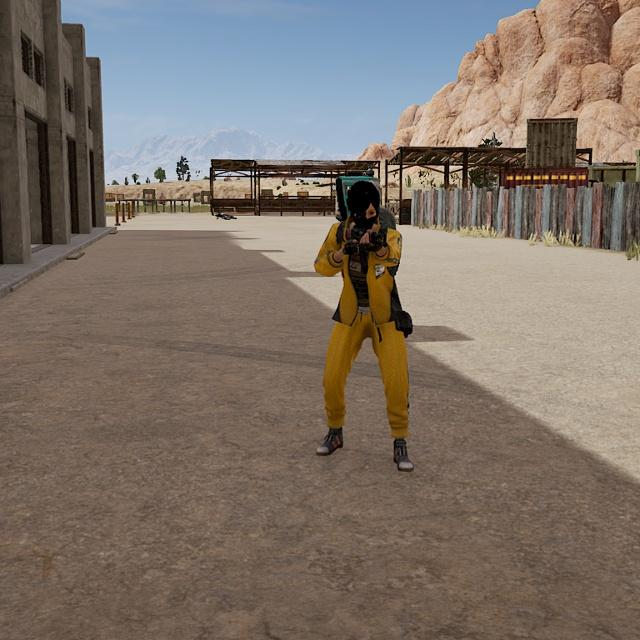head: (344, 180, 386, 231)
people: (311, 178, 418, 475)
